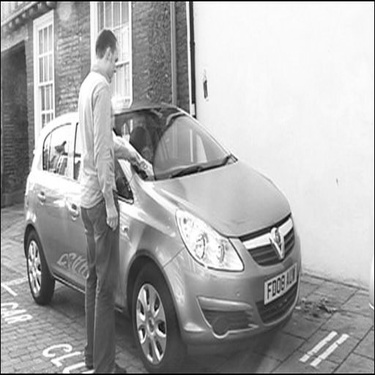car: (17, 93, 306, 372)
